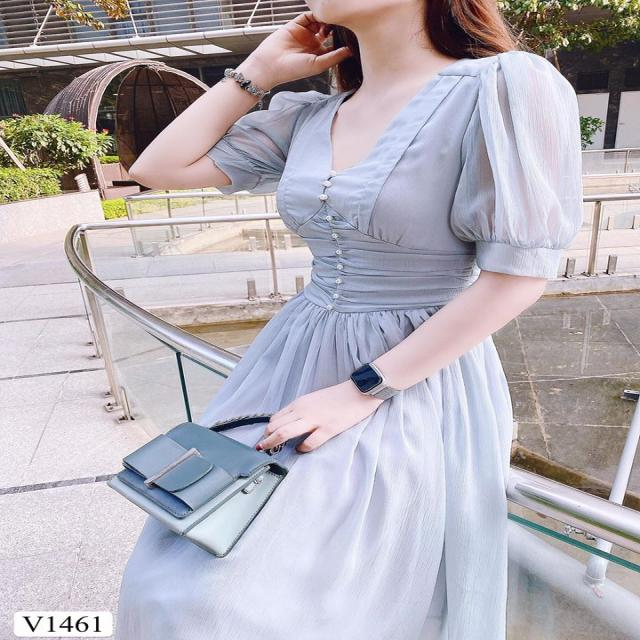clothes: (116, 50, 582, 640)
